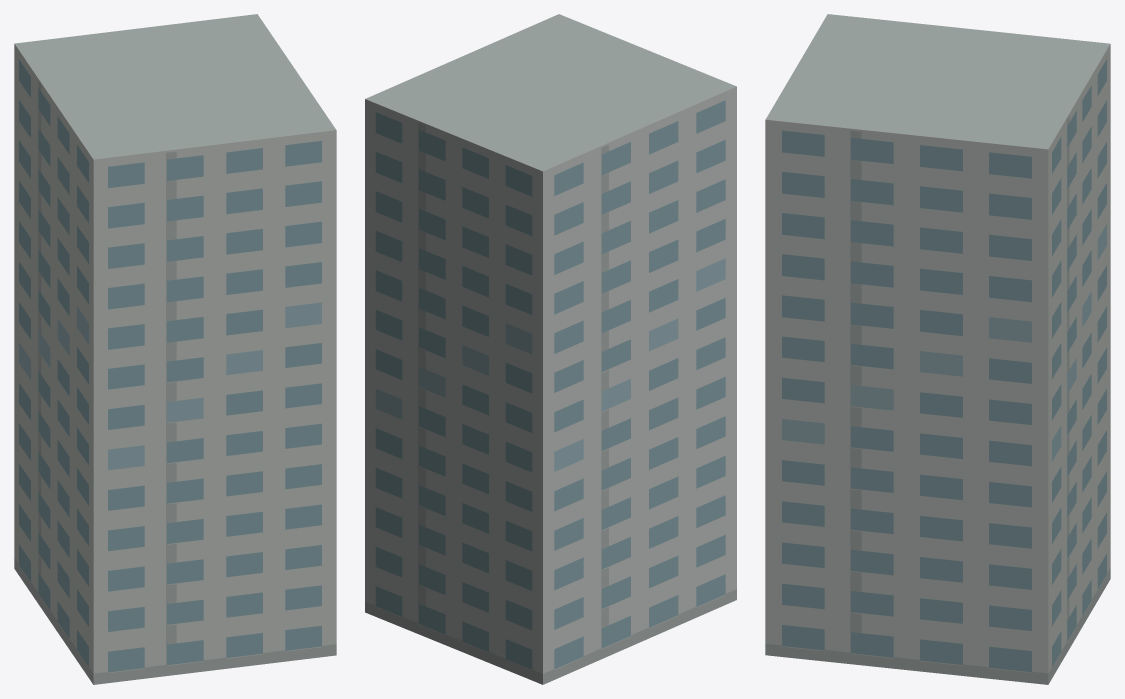
Rendered from residential-7252062e-d092-4a03-8c79-a34c76783c42.glb.
3 views of the same model, side by side, from view 1: azimuth 30°, elevation 25°; view 2: azimuth 150°, elevation 25°; view 3: azimuth 270°, elevation 25° (orthographic). The views are drawn at different scales.
Parts seen in each view (by area): view 1: residential-7252062e-d092-4a03-8c79-a34c76783c42.tmp; view 2: residential-7252062e-d092-4a03-8c79-a34c76783c42.tmp; view 3: residential-7252062e-d092-4a03-8c79-a34c76783c42.tmp.
Boxes of the visible parts, <box> form: residential-7252062e-d092-4a03-8c79-a34c76783c42.tmp: <box>14,14,336,684</box>; residential-7252062e-d092-4a03-8c79-a34c76783c42.tmp: <box>365,14,736,684</box>; residential-7252062e-d092-4a03-8c79-a34c76783c42.tmp: <box>765,14,1110,684</box>.
Size of the model in its own units: 33.64 by 62 by 36.21.
